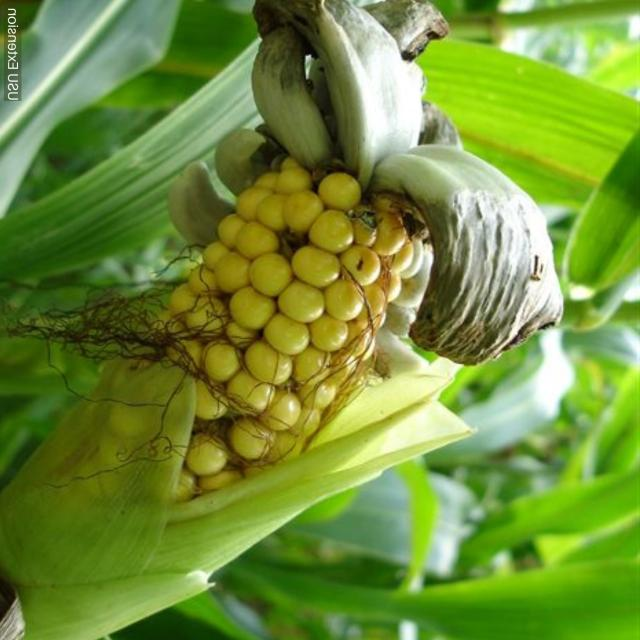Leaf_Scald: (114, 0, 598, 496)
